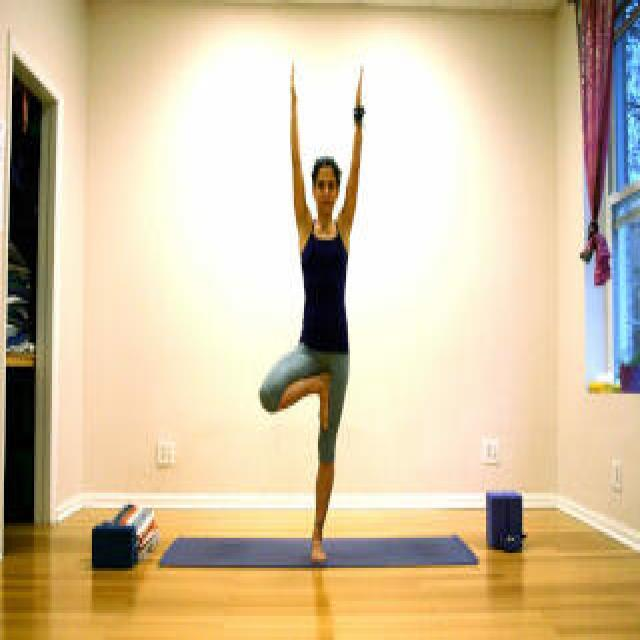yoga-pose tree: (253, 62, 369, 562)
